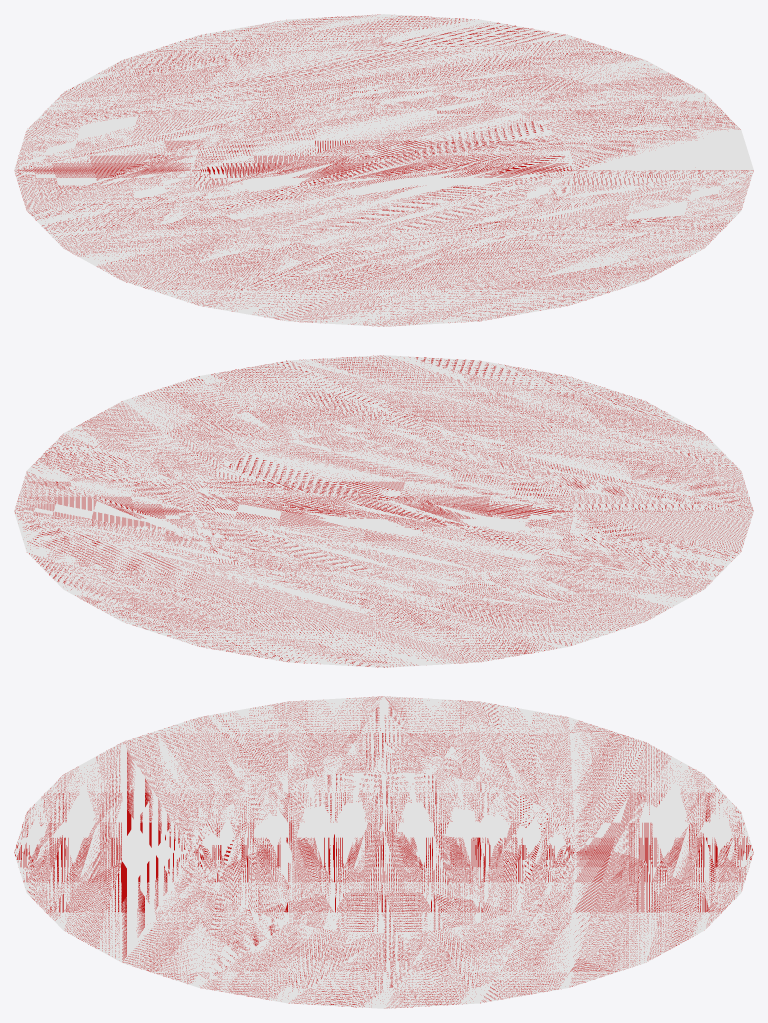
Rendered from original-9.obj.
3 views of the same model, one above another, from view 1: azimuth 30°, elevation 25°; view 2: azimuth 150°, elevation 25°; view 3: azimuth 270°, elevation 25° (orthographic).
Visible parts, largest first — view 1: mesh11/mesh11-geometry#mesh11-geometry; view 2: mesh11/mesh11-geometry#mesh11-geometry; view 3: mesh11/mesh11-geometry#mesh11-geometry.
Boxes of the visible parts, <box> form: mesh11/mesh11-geometry#mesh11-geometry: <box>14,14,753,326</box>; mesh11/mesh11-geometry#mesh11-geometry: <box>14,355,753,667</box>; mesh11/mesh11-geometry#mesh11-geometry: <box>14,696,753,1008</box>.
Bounding box in the file's own units: 0.0531 × 0 × 0.0531.
